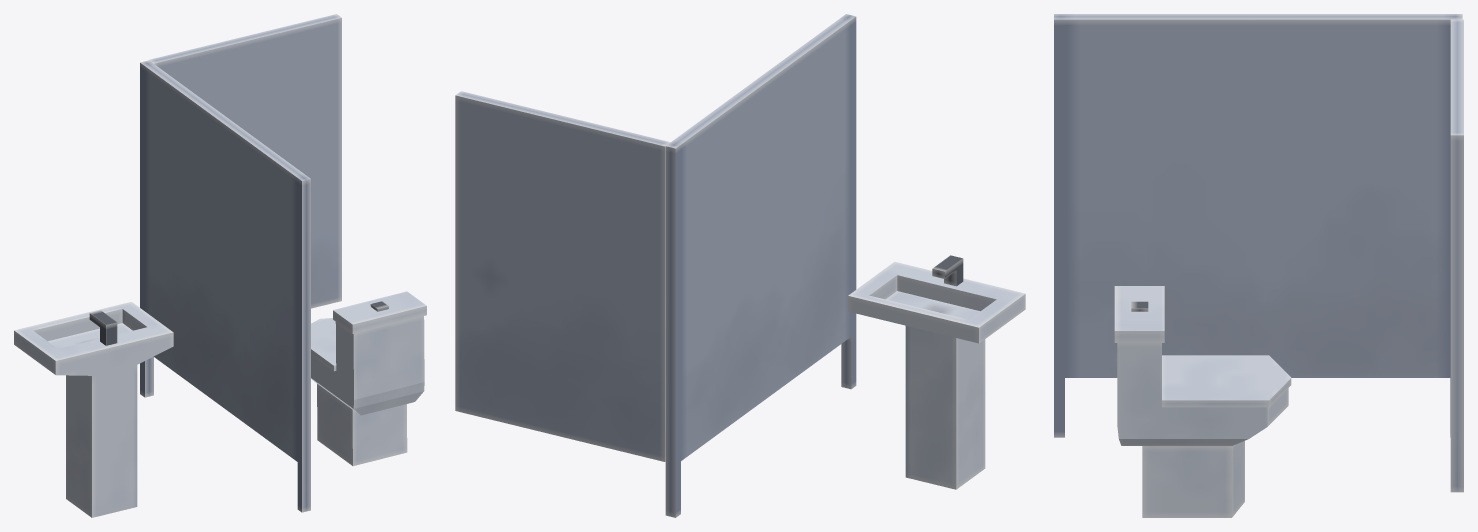
File: ToiletPack.fbx
3 views of the same model, side by side, from view 1: azimuth 30°, elevation 25°; view 2: azimuth 150°, elevation 25°; view 3: azimuth 270°, elevation 25° (orthographic). The views are drawn at different scales.
Parts seen in each view (by area): view 1: CubicleWall, CubicleDoor, Sink, Toilet, Seat; view 2: CubicleDoor, CubicleWall, Sink; view 3: CubicleWall, Toilet, CubicleDoor, Seat.
Boxes of the visible parts, box(x1,y1,x2,y2) form: CubicleWall: box(140, 60, 310, 512); CubicleDoor: box(149, 14, 341, 308); Sink: box(14, 302, 173, 517); Toilet: box(311, 291, 426, 466); Seat: box(311, 318, 336, 371); CubicleDoor: box(455, 91, 670, 461); CubicleWall: box(665, 14, 856, 517); Sink: box(848, 255, 1025, 489); CubicleWall: box(1054, 14, 1462, 437); Toilet: box(1114, 286, 1288, 517); CubicleDoor: box(1450, 19, 1463, 492); Seat: box(1162, 355, 1291, 407).
Bounding box in the file's own units: 274 × 219 × 194.
Materials: 1 (1 with a texture image).
